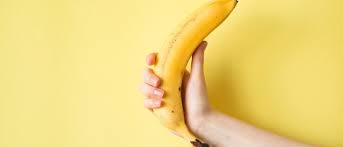banana: (151, 1, 234, 146)
